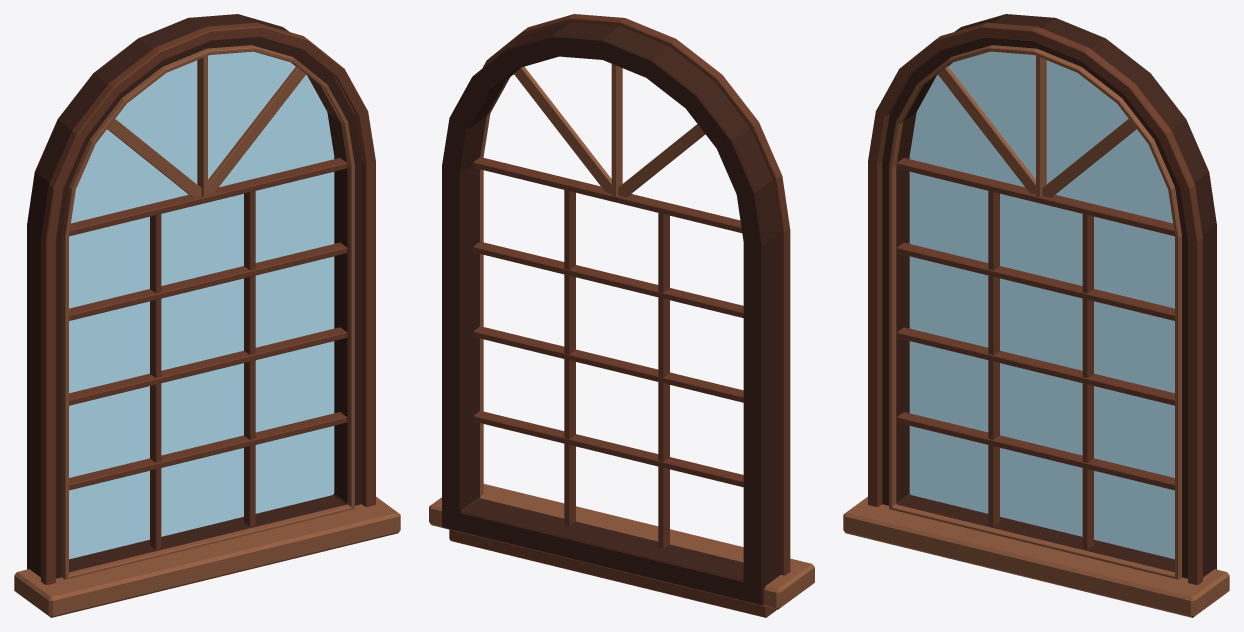
File: window_02.glb
The picture shows the model from 3 angles, left to right: view 1: azimuth 30°, elevation 25°; view 2: azimuth 150°, elevation 25°; view 3: azimuth 330°, elevation 25°; orthographic projection.
Parts seen in each view (by area): view 1: Glass, Deep_frame, Raised_moulding, Sill, Inner_bead, Mullion_1, Mullion_2, Transom_3, Transom_1, Transom_2, Transom_4, Fan_ray_1 (+2 smaller); view 2: Deep_frame, Raised_moulding, Sill, Sill_apron, Mullion_2, Mullion_1, Transom_1, Transom_2, Transom_3, Transom_4, Inner_bead, Fan_ray_1 (+2 smaller); view 3: Glass, Deep_frame, Raised_moulding, Sill, Inner_bead, Mullion_2, Mullion_1, Transom_3, Transom_1, Transom_2, Transom_4, Fan_ray_3 (+2 smaller).
Part boxes in pixels (left/top/right/bottom): Glass: left=69, top=51, right=334, bottom=559; Deep_frame: left=27, top=14, right=361, bottom=578; Raised_moulding: left=41, top=22, right=375, bottom=584; Sill: left=14, top=496, right=400, bottom=617; Inner_bead: left=62, top=45, right=354, bottom=579; Mullion_1: left=150, top=214, right=161, bottom=550; Mullion_2: left=244, top=191, right=255, bottom=527; Transom_3: left=69, top=242, right=347, bottom=320; Transom_1: left=69, top=412, right=347, bottom=490; Transom_2: left=69, top=327, right=347, bottom=405; Transom_4: left=69, top=158, right=347, bottom=236; Fan_ray_1: left=201, top=66, right=305, bottom=195; Deep_frame: left=442, top=22, right=780, bottom=605; Raised_moulding: left=482, top=14, right=790, bottom=575; Sill: left=429, top=484, right=814, bottom=609; Sill_apron: left=449, top=529, right=776, bottom=617; Mullion_2: left=564, top=190, right=575, bottom=526; Mullion_1: left=658, top=213, right=669, bottom=548; Transom_1: left=473, top=411, right=743, bottom=487; Transom_2: left=473, top=326, right=743, bottom=402; Transom_3: left=473, top=241, right=743, bottom=317; Transom_4: left=473, top=157, right=742, bottom=232; Inner_bead: left=480, top=74, right=743, bottom=562; Fan_ray_1: left=514, top=66, right=611, bottom=193; Glass: left=909, top=51, right=1174, bottom=559; Deep_frame: left=882, top=14, right=1216, bottom=578; Raised_moulding: left=868, top=22, right=1202, bottom=584; Sill: left=843, top=496, right=1229, bottom=617; Inner_bead: left=889, top=45, right=1181, bottom=579; Mullion_2: left=1082, top=214, right=1093, bottom=550; Mullion_1: left=988, top=191, right=999, bottom=527; Transom_3: left=896, top=242, right=1174, bottom=320; Transom_1: left=896, top=412, right=1174, bottom=490; Transom_2: left=896, top=327, right=1174, bottom=405; Transom_4: left=896, top=158, right=1174, bottom=236; Fan_ray_3: left=938, top=66, right=1035, bottom=194.
Bounding box in the file's own units: 2.12 × 3.17 × 0.405.
